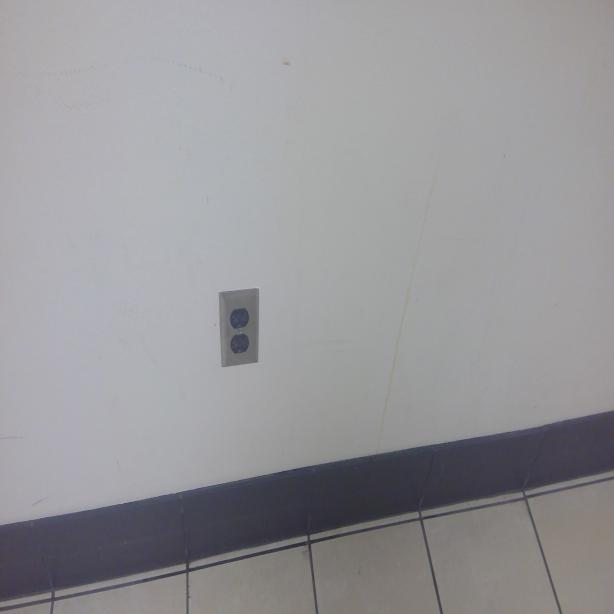typeb: (230, 332, 251, 357), (230, 306, 247, 330)
